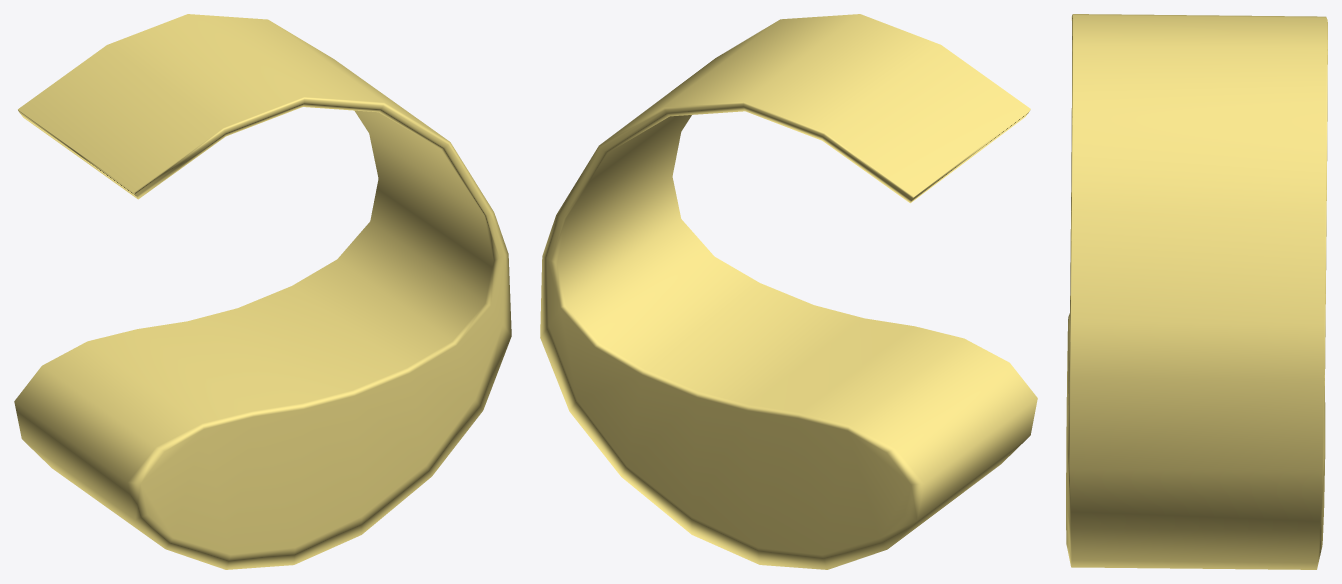
Rendered from SM_Y_01_F_Chair2.fbx.
3 views of the same model, side by side, from view 1: azimuth 30°, elevation 25°; view 2: azimuth 150°, elevation 25°; view 3: azimuth 270°, elevation 25° (orthographic). The views are drawn at different scales.
Visible parts, largest first — view 1: SM_Y_01_F_Chair2; view 2: SM_Y_01_F_Chair2; view 3: SM_Y_01_F_Chair2.
Boxes of the visible parts, x1,y1,x2,y2 form: SM_Y_01_F_Chair2: (14, 14, 511, 569); SM_Y_01_F_Chair2: (540, 14, 1037, 569); SM_Y_01_F_Chair2: (1066, 14, 1327, 569).
Size of the model in its own units: 124 by 145 by 67.64.
